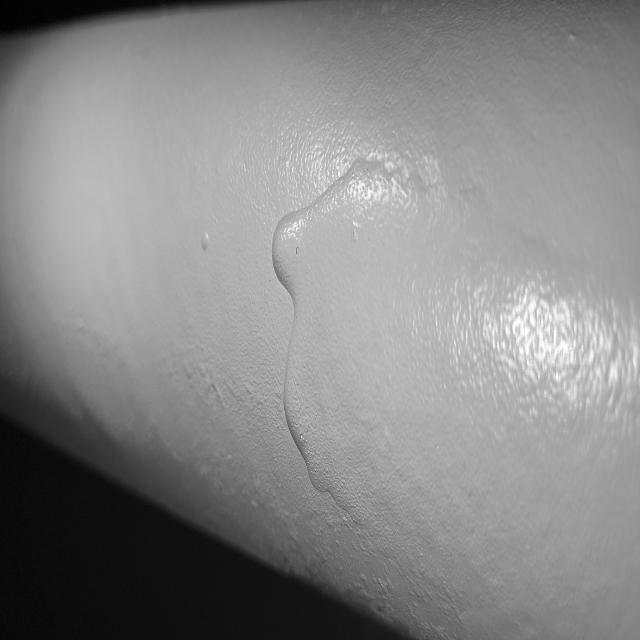paint drips: (258, 124, 416, 543)
